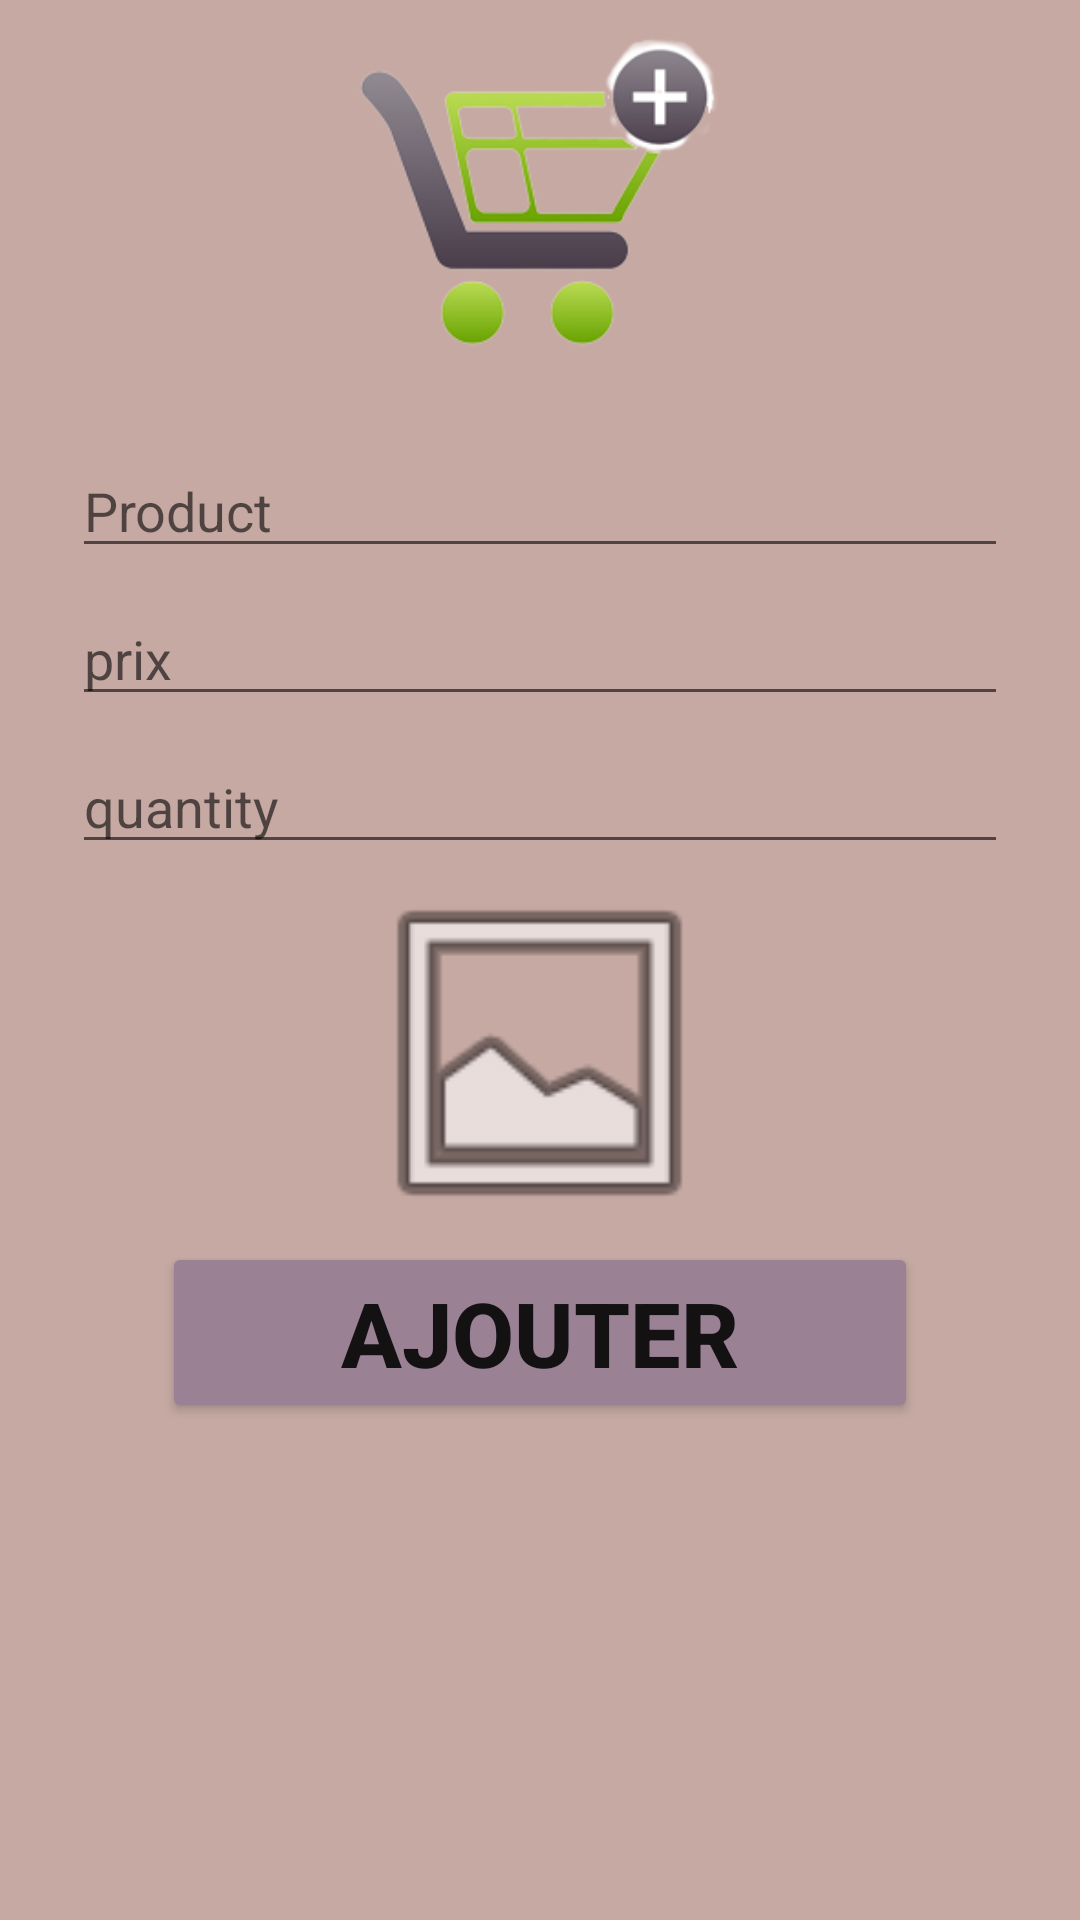

Where icons sit on this 1080×1920 app screen, as (x1, y1, x2, y2):
gallery: (397, 910, 682, 1196)
panier: (361, 41, 714, 344)
